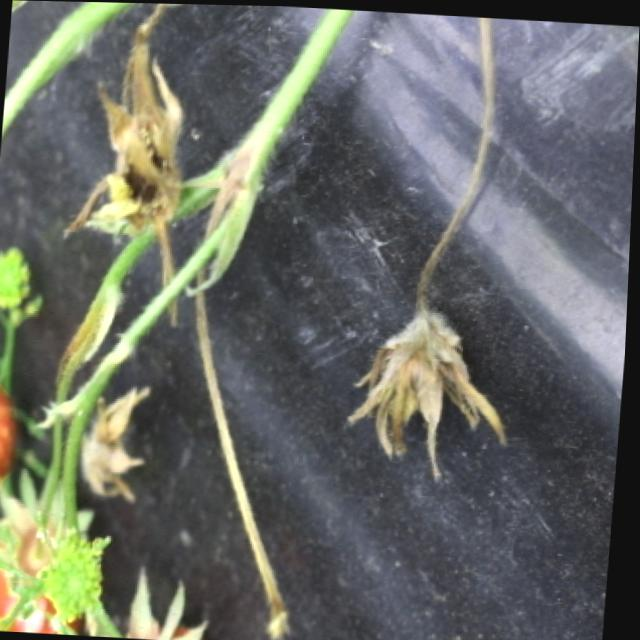Gray Mold: (350, 303, 510, 479)
